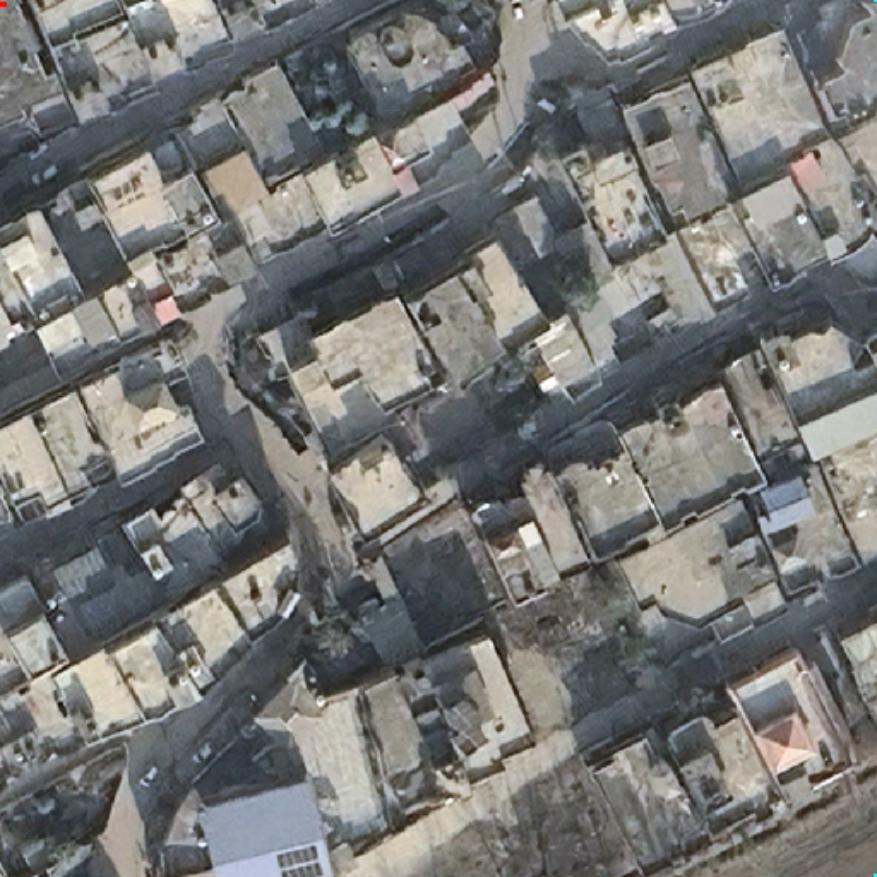Solarpanel: (274, 843, 327, 877)
